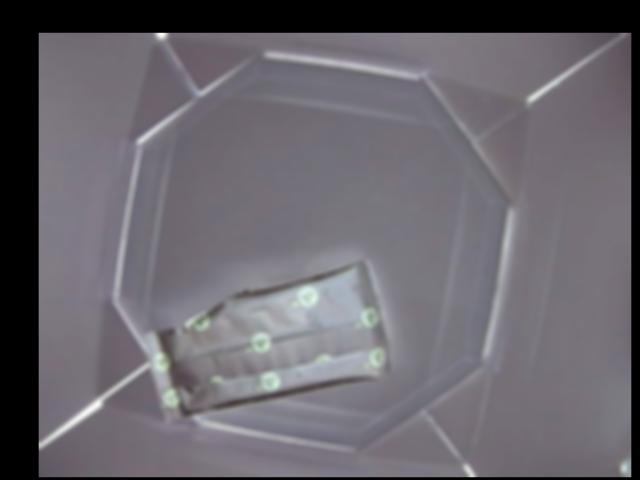Medicine: (142, 261, 391, 423)
